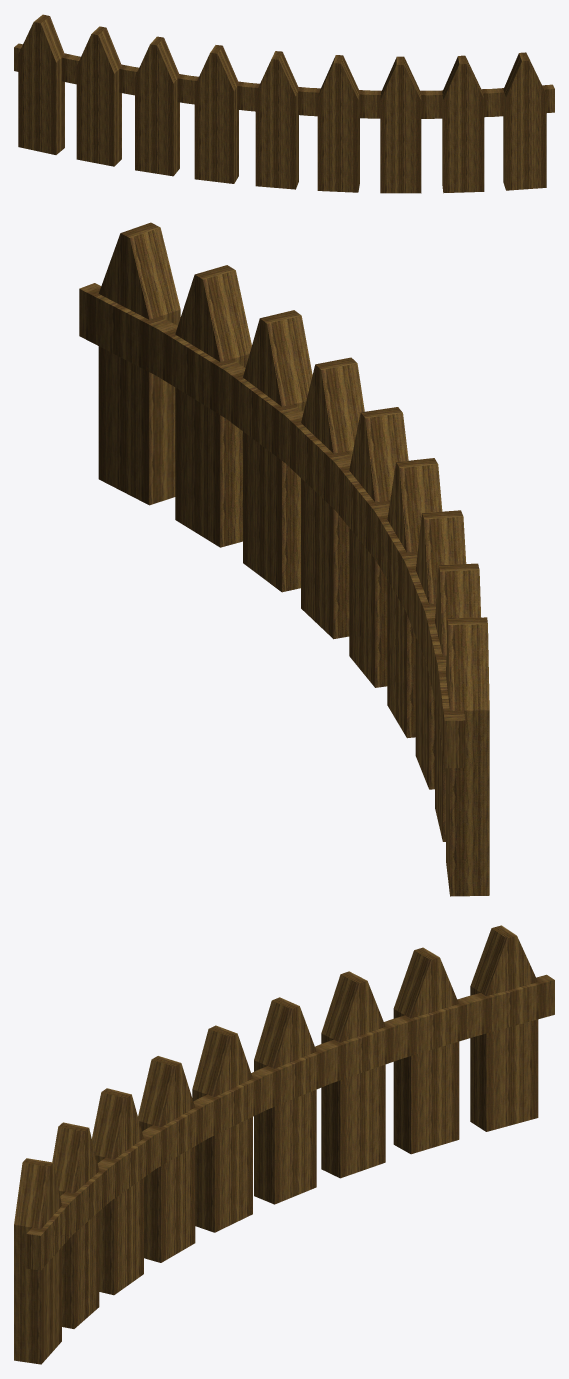
The model's file is grossfence.fbx.
The picture shows the model from 3 angles, top to bottom: view 1: azimuth 30°, elevation 25°; view 2: azimuth 150°, elevation 25°; view 3: azimuth 270°, elevation 25°; orthographic projection. The views are drawn at different scales.
Parts seen in each view (by area): view 1: mesh-11.006; view 2: mesh-11.006; view 3: mesh-11.006.
Part boxes in pixels (x1,y1,x2,y2): mesh-11.006: [14, 14, 554, 193]; mesh-11.006: [79, 222, 489, 896]; mesh-11.006: [14, 925, 554, 1364].
Size of the model in its own units: 384 by 127 by 332.
1 material, 1 textured.
